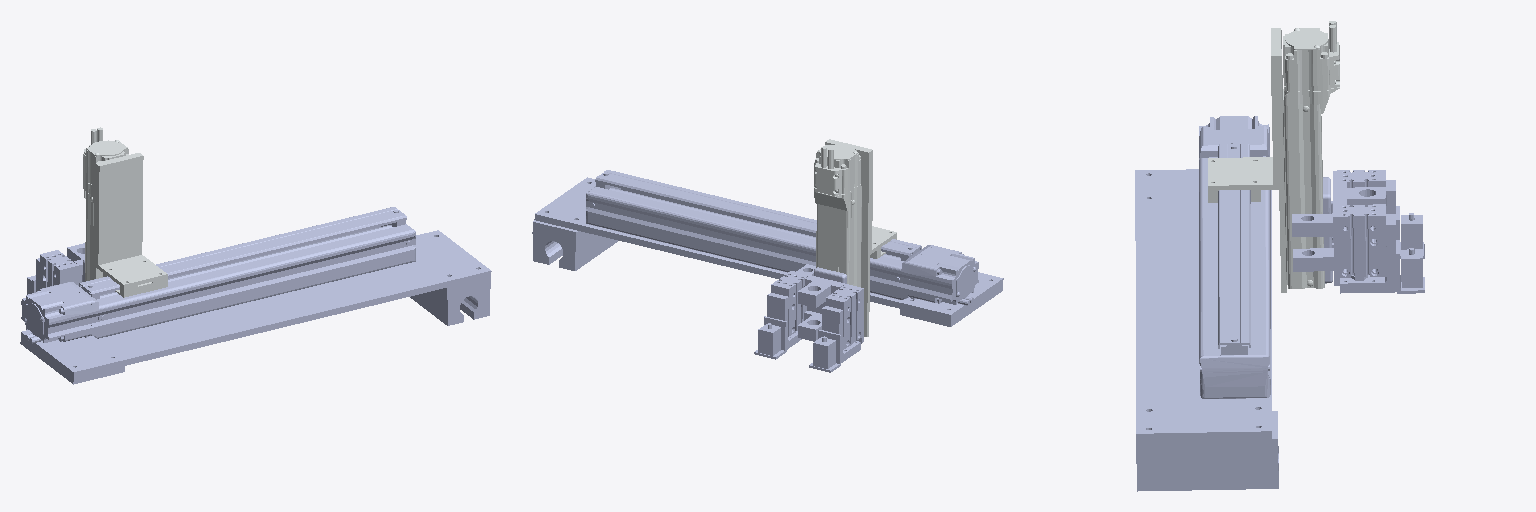
The robot description file, URDF, robot "pap_robot":
<robot
  name="pap_robot">
  <link
    name="base_link">
    <inertial>
      <origin
        xyz="0.122166803923165 0.172921155954398 0.0597026335251452"
        rpy="0 0 0" />
      <mass
        value="23.1635777757461" />
      <inertia
        ixx="2.21471490770218"
        ixy="-0.0947588510991935"
        ixz="0.0377758449755592"
        iyy="1.09176472075279"
        iyz="-0.147746528542996"
        izz="3.12064244701592" />
    </inertial>
    <visual>
      <origin
        xyz="0 0 0"
        rpy="0 0 0" />
      <geometry>
        <mesh
          filename="package://pap_robot/meshes/base_link.STL" />
      </geometry>
      <material
        name="">
        <color
          rgba="0.752941176470588 0.752941176470588 0.752941176470588 1" />
      </material>
    </visual>
    <collision>
      <origin
        xyz="0 0 0"
        rpy="0 0 0" />
      <geometry>
        <mesh
          filename="package://pap_robot/meshes/base_link.STL" />
      </geometry>
    </collision>
  </link>
  <link
    name="x-axis">
    <inertial>
      <origin
        xyz="0.086025 0.0031594 -0.027482"
        rpy="0 0 0" />
      <mass
        value="2.3241" />
      <inertia
        ixx="0.0044226"
        ixy="0.0073368"
        ixz="-0.0025292"
        iyy="0.090561"
        iyz="-0.00064725"
        izz="0.089616" />
    </inertial>
    <visual>
      <origin
        xyz="0 0 0"
        rpy="0 0 0" />
      <geometry>
        <mesh
          filename="package://pap_robot/meshes/x-axis.STL" />
      </geometry>
      <material
        name="">
        <color
          rgba="0.79608 0.82353 0.93725 1" />
      </material>
    </visual>
    <collision>
      <origin
        xyz="0 0 0"
        rpy="0 0 0" />
      <geometry>
        <mesh
          filename="package://pap_robot/meshes/x-axis.STL" />
      </geometry>
    </collision>
  </link>
  <joint
    name="x-joint"
    type="fixed">
    <origin
      xyz="0.0230260370594868 0.116277265419757 0.11244353447967"
      rpy="-1.55063063970814 0.00105595529151334 0.000700753464251396" />
    <parent
      link="base_link" />
    <child
      link="x-axis" />
    <axis
      xyz="0 0 0" />
  </joint>
  <link
    name="y-axis">
    <inertial>
      <origin
        xyz="0.0027911 0.029583 -0.013474"
        rpy="0 0 0" />
      <mass
        value="0.6145" />
      <inertia
        ixx="0.0025518"
        ixy="-0.00036387"
        ixz="-3.2784E-06"
        iyy="0.00067643"
        iyz="1.3196E-06"
        izz="0.0029164" />
    </inertial>
    <visual>
      <origin
        xyz="0 0 0"
        rpy="0 0 0" />
      <geometry>
        <mesh
          filename="package://pap_robot/meshes/y-axis.STL" />
      </geometry>
      <material
        name="">
        <color
          rgba="0.89804 0.92157 0.92941 1" />
      </material>
    </visual>
    <collision>
      <origin
        xyz="0 0 0"
        rpy="0 0 0" />
      <geometry>
        <mesh
          filename="package://pap_robot/meshes/y-axis.STL" />
      </geometry>
    </collision>
  </link>
  <joint
    name="y-joint"
    type="fixed">
    <origin
      xyz="-0.110970227560525 0.148129075877471 0.169240719194696"
      rpy="1.56974015676244 0.0201656758424402 -1.57011687027759" />
    <parent
      link="base_link" />
    <child
      link="y-axis" />
    <axis
      xyz="0 0 0" />
  </joint>
  <link
    name="z-axis">
    <inertial>
      <origin
        xyz="0.064054 -0.035861 0.035317"
        rpy="0 0 0" />
      <mass
        value="0.46217" />
      <inertia
        ixx="0.00029535"
        ixy="-2.1669E-06"
        ixz="1.8683E-05"
        iyy="0.00052453"
        iyz="9.2783E-06"
        izz="0.00061443" />
    </inertial>
    <visual>
      <origin
        xyz="0 0 0"
        rpy="0 0 0" />
      <geometry>
        <mesh
          filename="package://pap_robot/meshes/z-axis.STL" />
      </geometry>
      <material
        name="">
        <color
          rgba="0.79216 0.81961 0.93333 1" />
      </material>
    </visual>
    <collision>
      <origin
        xyz="0 0 0"
        rpy="0 0 0" />
      <geometry>
        <mesh
          filename="package://pap_robot/meshes/z-axis.STL" />
      </geometry>
    </collision>
  </link>
  <joint
    name="z-joint"
    type="fixed">
    <origin
      xyz="-0.0322594952814404 0.168389842265403 0.152281684828915"
      rpy="1.55063063970814 -0.00105595529151411 -3.14089190012555" />
    <parent
      link="base_link" />
    <child
      link="z-axis" />
    <axis
      xyz="0 0 0" />
  </joint>
  <link
    name="nozzle_1">
    <inertial>
      <origin
        xyz="-0.014516 0.025804 0.01631"
        rpy="0 0 0" />
      <mass
        value="0.045507" />
      <inertia
        ixx="1.886E-05"
        ixy="5.0142E-07"
        ixz="-4.6814E-10"
        iyy="1.8173E-05"
        iyz="-6.7629E-10"
        izz="3.2994E-05" />
    </inertial>
    <visual>
      <origin
        xyz="0 0 0"
        rpy="0 0 0" />
      <geometry>
        <mesh
          filename="package://pap_robot/meshes/nozzle_1.STL" />
      </geometry>
      <material
        name="">
        <color
          rgba="0.79216 0.81961 0.93333 1" />
      </material>
    </visual>
    <collision>
      <origin
        xyz="0 0 0"
        rpy="0 0 0" />
      <geometry>
        <mesh
          filename="package://pap_robot/meshes/nozzle_1.STL" />
      </geometry>
    </collision>
  </link>
  <joint
    name="nozzle_1_joint"
    type="fixed">
    <origin
      xyz="-0.044085 0.2214 0.10935"
      rpy="1.5185 -1.5506 -1.5178" />
    <parent
      link="base_link" />
    <child
      link="nozzle_1" />
    <axis
      xyz="0 0 0" />
  </joint>
  <link
    name="nozzle_2">
    <inertial>
      <origin
        xyz="-0.014516 0.025804 0.01631"
        rpy="0 0 0" />
      <mass
        value="0.045507" />
      <inertia
        ixx="1.886E-05"
        ixy="5.0142E-07"
        ixz="-4.6814E-10"
        iyy="1.8173E-05"
        iyz="-6.7629E-10"
        izz="3.2994E-05" />
    </inertial>
    <visual>
      <origin
        xyz="0 0 0"
        rpy="0 0 0" />
      <geometry>
        <mesh
          filename="package://pap_robot/meshes/nozzle_2.STL" />
      </geometry>
      <material
        name="">
        <color
          rgba="0.79216 0.81961 0.93333 1" />
      </material>
    </visual>
    <collision>
      <origin
        xyz="0 0 0"
        rpy="0 0 0" />
      <geometry>
        <mesh
          filename="package://pap_robot/meshes/nozzle_2.STL" />
      </geometry>
    </collision>
  </link>
  <joint
    name="nozzle_2_joint"
    type="fixed">
    <origin
      xyz="-0.11908 0.22134 0.10943"
      rpy="1.5185 -1.5506 -1.5178" />
    <parent
      link="base_link" />
    <child
      link="nozzle_2" />
    <axis
      xyz="0 0 0" />
  </joint>
</robot>

--- Render facts (derived) ---
Views: 3 orthographic renders of the robot side by side, from view 1: azimuth 30°, elevation 25°; view 2: azimuth 150°, elevation 25°; view 3: azimuth 270°, elevation 25°.
Model pap_robot with 6 links and 5 joints (5 fixed), rooted at base_link, posed all joints at 0.
Visible links, largest first — view 1: x-axis, y-axis, z-axis; view 2: x-axis, y-axis, z-axis, nozzle_2, nozzle_1; view 3: x-axis, y-axis, z-axis, nozzle_1, nozzle_2.
Boxes of the visible links, x1,y1,x2,y2 form: x-axis: (20,207,491,384); y-axis: (83,127,167,297); z-axis: (39,243,84,288); x-axis: (532,170,1003,326); y-axis: (814,139,896,336); z-axis: (771,264,863,349); nozzle_2: (809,306,860,372); nozzle_1: (754,293,801,359); x-axis: (1135,116,1278,491); y-axis: (1208,21,1339,292); z-axis: (1292,170,1386,285); nozzle_1: (1340,214,1424,293); nozzle_2: (1386,180,1424,258).
Size in the robot's own frame: 0.5781 by 0.2651 by 0.2712 metres.
5 mesh visuals loaded from 6 distinct referenced files (5 binary STL); not drawn: 1 (reference not matched to a file when rendering).